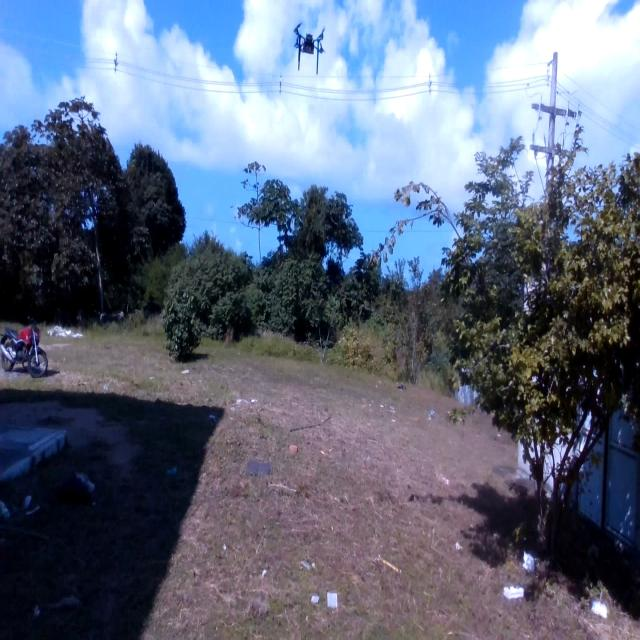-uav-: (283, 12, 334, 92)
